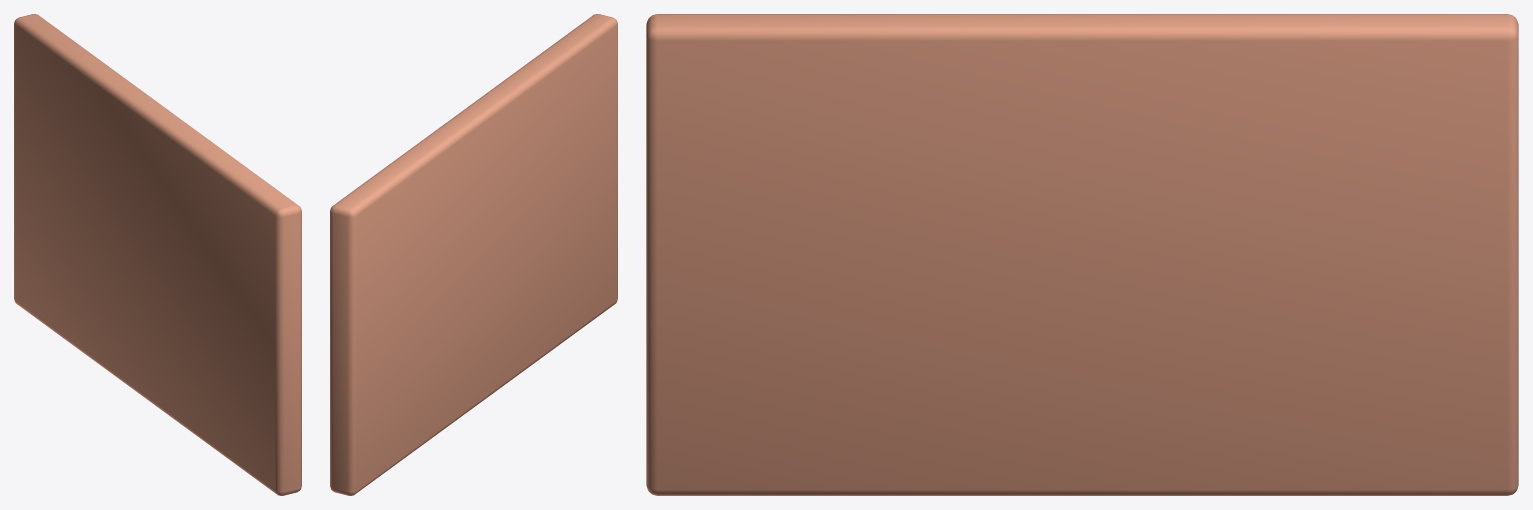
Rendered from block_straight_long.fbx.
3 views of the same model, side by side, from view 1: azimuth 30°, elevation 25°; view 2: azimuth 150°, elevation 25°; view 3: azimuth 270°, elevation 25° (orthographic). The views are drawn at different scales.
Visible parts, largest first — view 1: block_straight_long; view 2: block_straight_long; view 3: block_straight_long.
Boxes of the visible parts, box(x1,y1,x2,y2) form: block_straight_long: box(14, 14, 301, 495); block_straight_long: box(330, 14, 617, 495); block_straight_long: box(646, 14, 1518, 495).
Size of the model in its own units: 65.76 by 700 by 1181.
